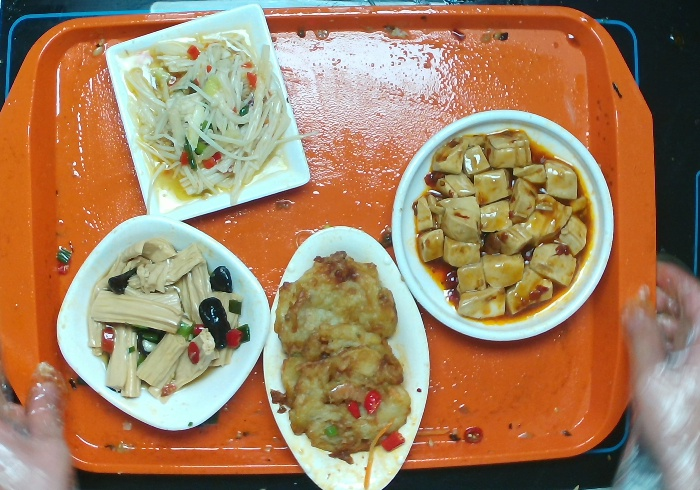HZYJPL-Si_Fang_Die: (102, 1, 312, 231)
HZYJPL-Si_Fang_Yuan_Die: (50, 209, 273, 437)
HZYJPL-Xiao_Yu_Die: (258, 222, 437, 490)
HZYJPL-Xiao_Yuan_Die: (380, 101, 623, 346)
